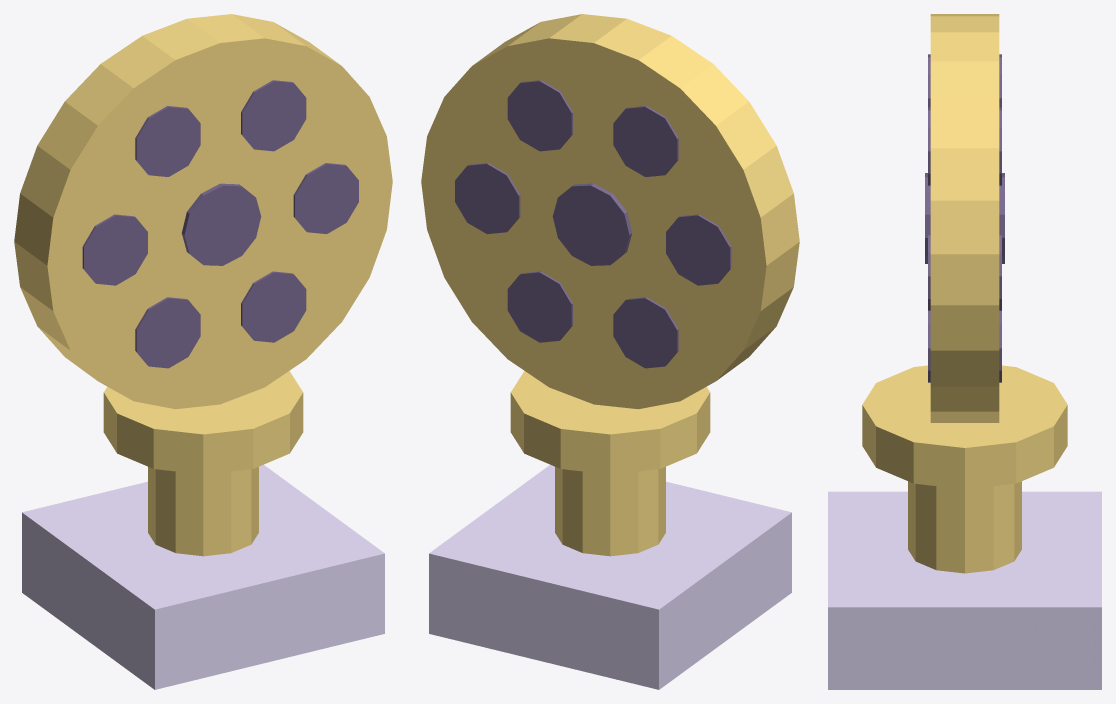
Rendered from SM_Heaven_FilmReelTrophy.glb.
The picture shows the model from 3 angles, left to right: view 1: azimuth 30°, elevation 25°; view 2: azimuth 150°, elevation 25°; view 3: azimuth 270°, elevation 25°; orthographic projection. The views are drawn at different scales.
Parts seen in each view (by area): view 1: SM_Heaven_FilmReelTrophy; view 2: SM_Heaven_FilmReelTrophy; view 3: SM_Heaven_FilmReelTrophy.
Boxes of the visible parts, x1,y1,x2,y2 form: SM_Heaven_FilmReelTrophy: (14,14,392,689); SM_Heaven_FilmReelTrophy: (421,14,799,689); SM_Heaven_FilmReelTrophy: (828,14,1101,689).
Bounding box in the file's own units: 0.36 × 0.58 × 0.24.
